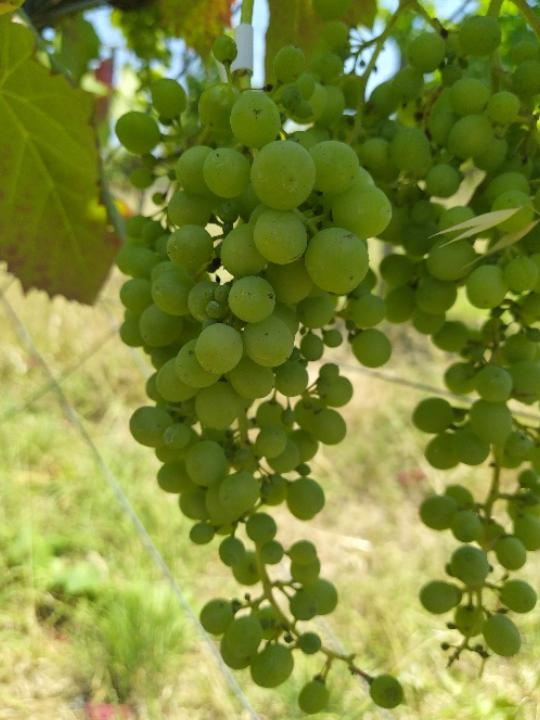grape: (114, 32, 411, 715)
